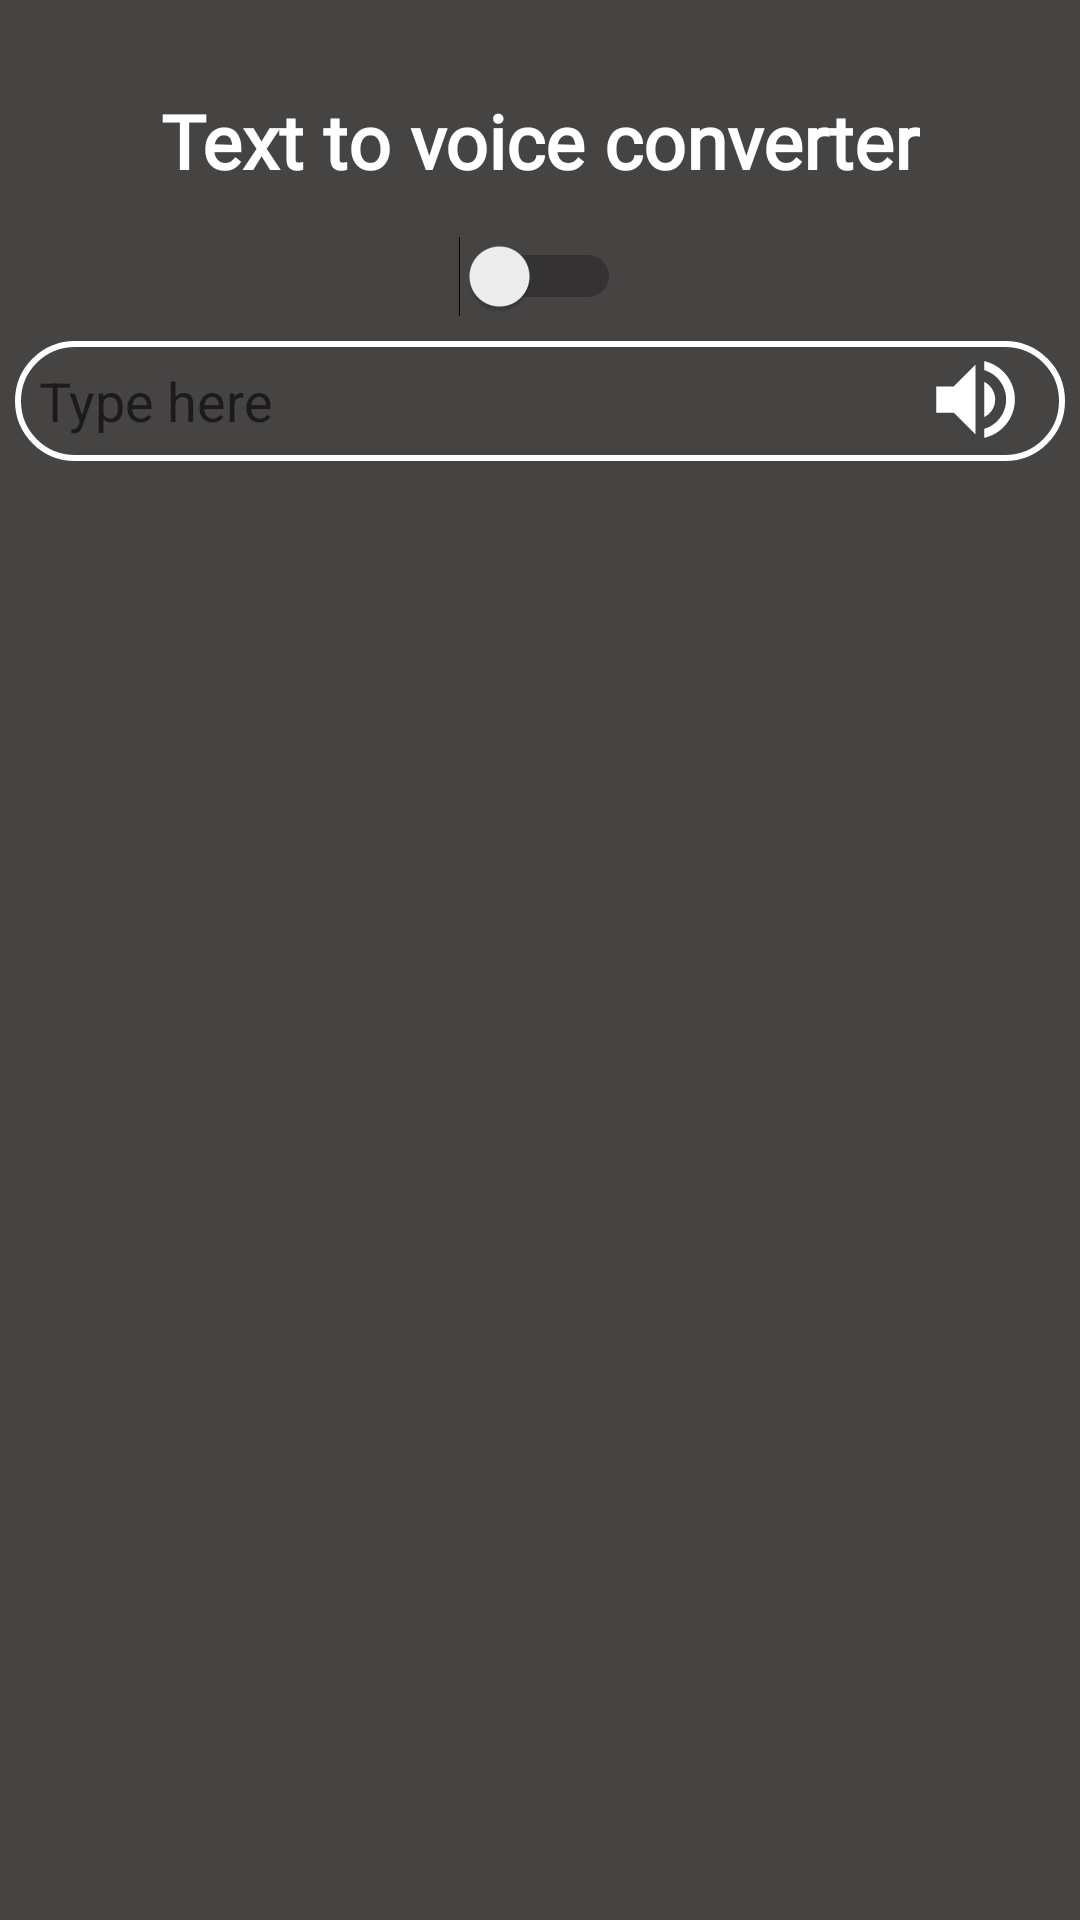

Named icons in this screenshot (1080 x 1920) and their centers, (x=x, y=y):
volume up: (x=975, y=399)
